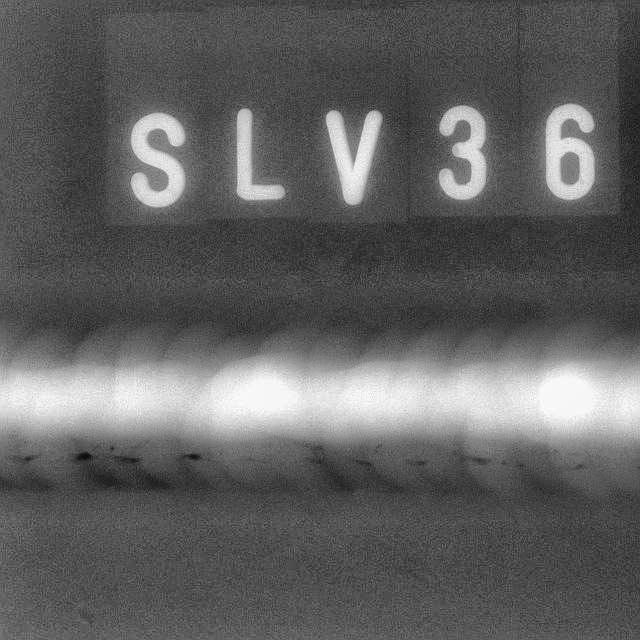LoP-LoF: (20, 434, 624, 490)
